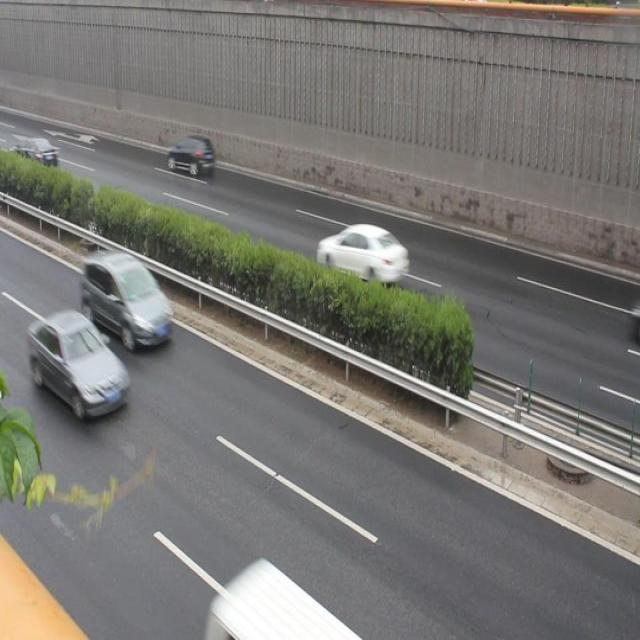car: (30, 309, 130, 421), (82, 250, 172, 349), (316, 222, 409, 300), (166, 136, 215, 178)
truck: (210, 559, 352, 640)
